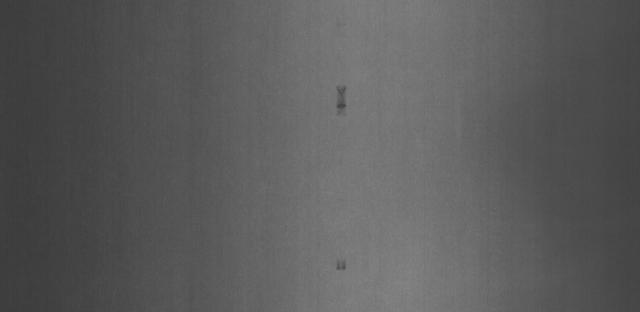oil_spot: (331, 81, 359, 127), (326, 250, 351, 274)
